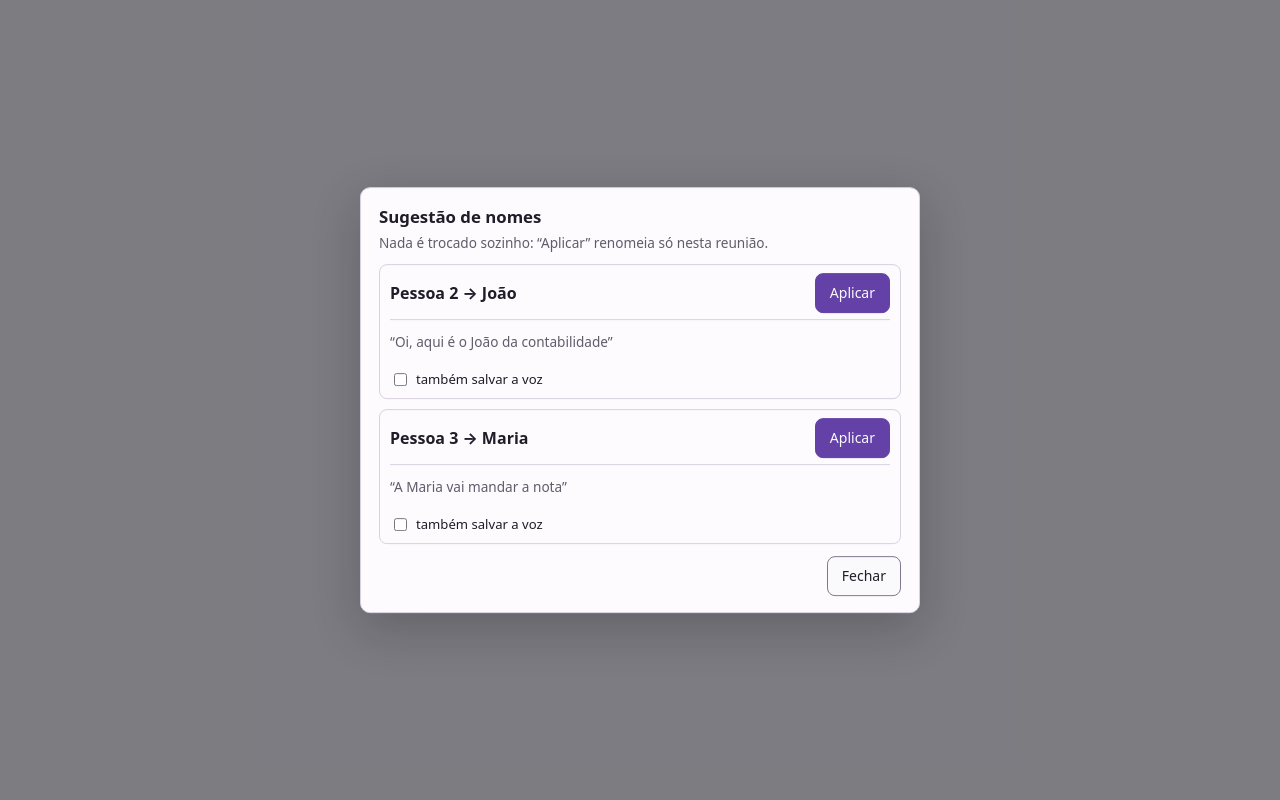
Test: NameSuggestionsDialog › applying a suggestion only renames
Step 1. Click the button "Aplicar" in the row of "Pessoa 2 → João" → (852, 293), box [815,273,890,313]
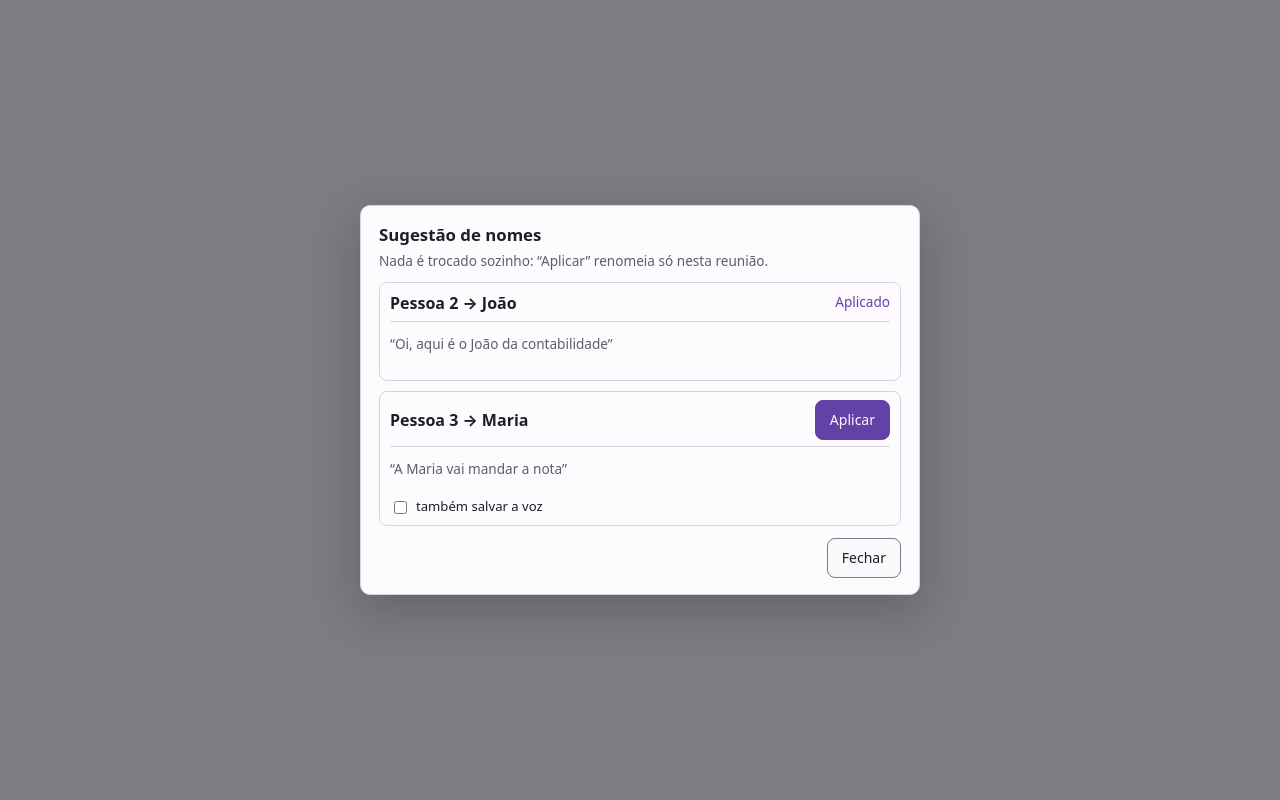
Check: the text "Aplicado" is shown, box [835,292,890,313]
